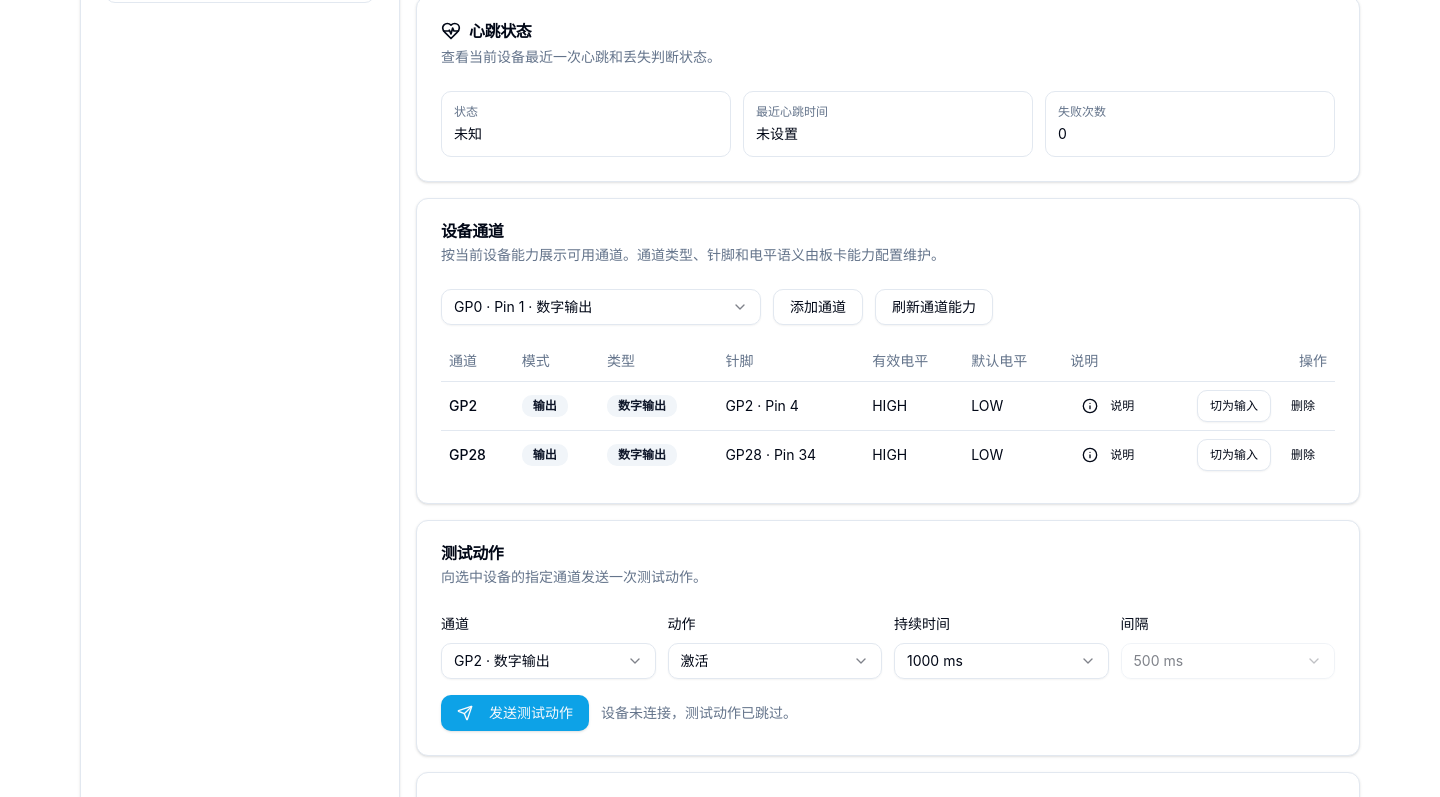
Test: DevicesPage › clears pending GPIO mode switch when the channel disappears before confirmation
(page scrolled)
Click the button "切为输入" in the row of "GP2 · Pin 4": point(1234, 406) top-left (1197, 390), bottom-right (1271, 422)
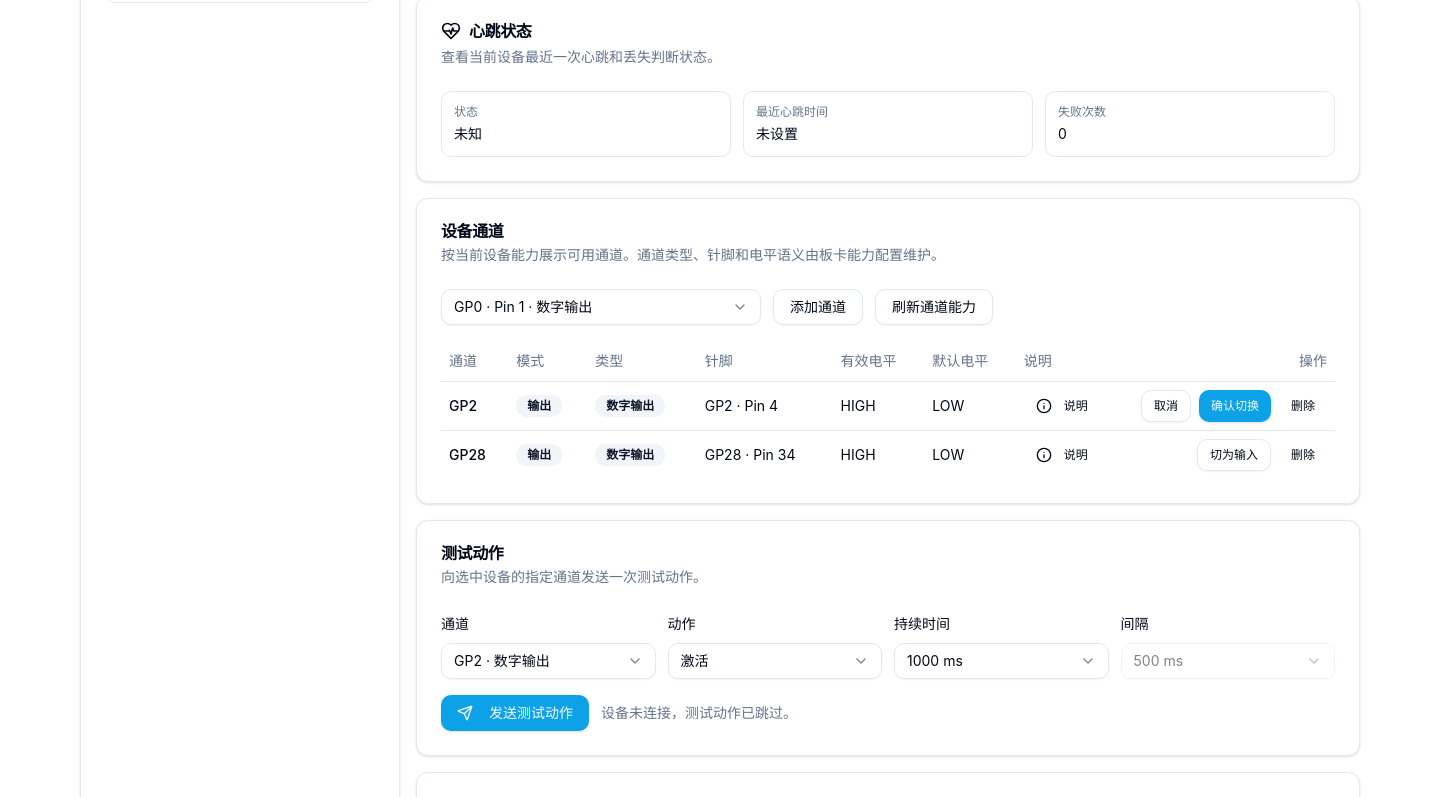
Now the button "确认切换" is shown, box top-left (1199, 390), bottom-right (1271, 422)
